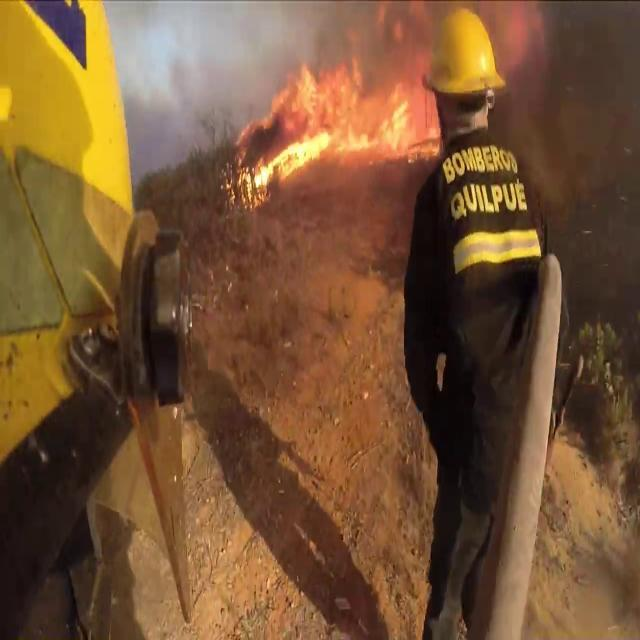Fire: (234, 28, 434, 190)
